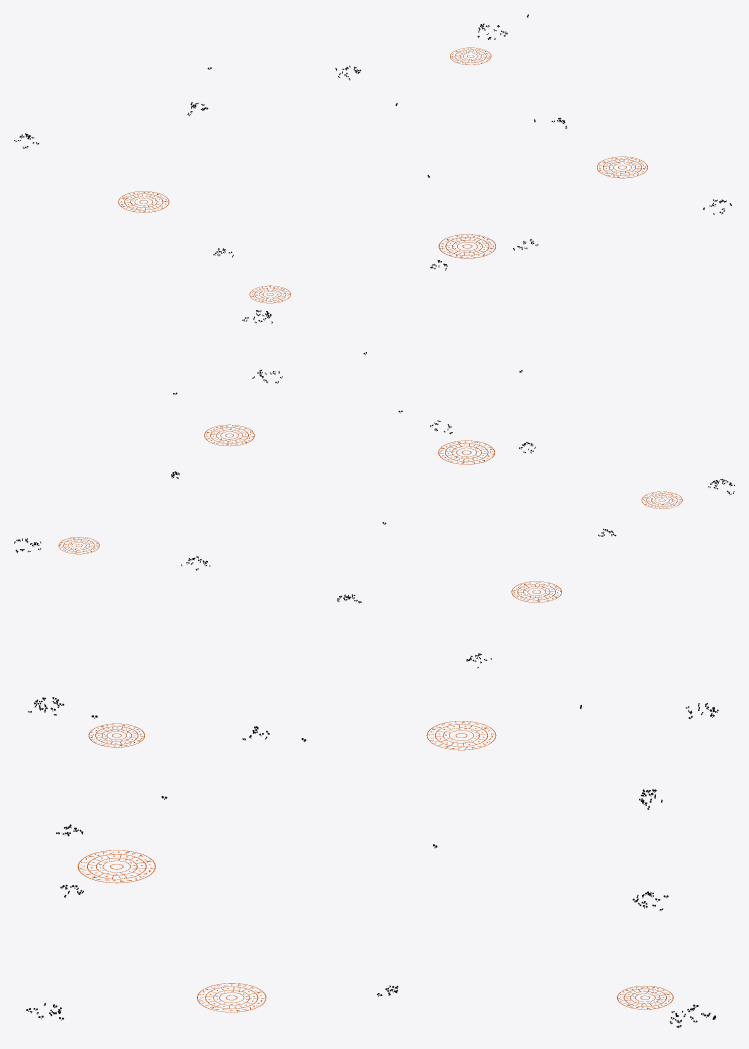
Rendered from tb_hellx2_p2.glb.
3 renders of one model, top to bottom at view 1: azimuth 30°, elevation 25°; view 2: azimuth 150°, elevation 25°; view 3: azimuth 270°, elevation 25°, orthographic. The views are drawn at different scales.
Parts seen in each view (by area): view 1: tb_hellx2_p2; view 2: tb_hellx2_p2; view 3: tb_hellx2_p2.
Part boxes in pixels (left/top/right/bottom): tb_hellx2_p2: left=14, top=14, right=731, bottom=323; tb_hellx2_p2: left=14, top=352, right=734, bottom=668; tb_hellx2_p2: left=26, top=697, right=718, bottom=1027.
Size of the model in its own units: 69.19 by 13.52 by 62.76.
Materials: 3 (1 with a texture image).
